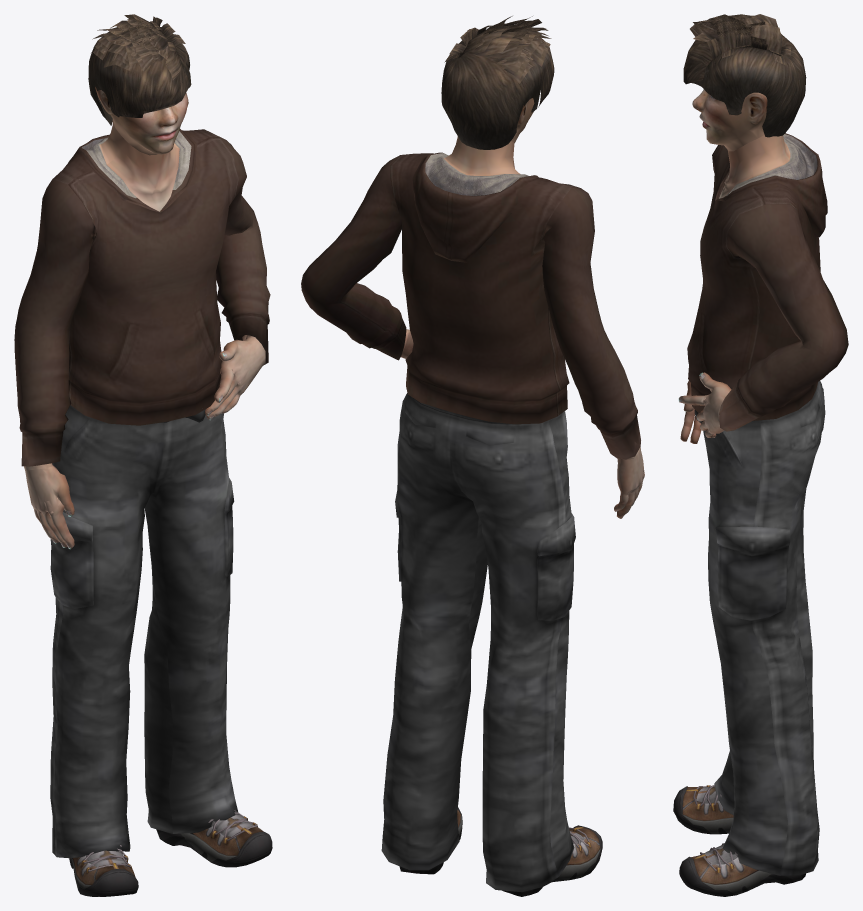
File: people5.glb
3 renders of one model, left to right at view 1: azimuth 30°, elevation 25°; view 2: azimuth 150°, elevation 25°; view 3: azimuth 270°, elevation 25°, orthographic. The views are drawn at different scales.
Visible parts, largest first — view 1: RL_Face.002; view 2: RL_Face.002; view 3: RL_Face.002.
Boxes of the visible parts, x1,y1,x2,y2 form: RL_Face.002: (14, 14, 272, 896); RL_Face.002: (301, 16, 644, 896); RL_Face.002: (673, 14, 848, 896).
Bounding box in the file's own units: 0.3516 × 1 × 0.1921.
11 materials, 11 textured.
